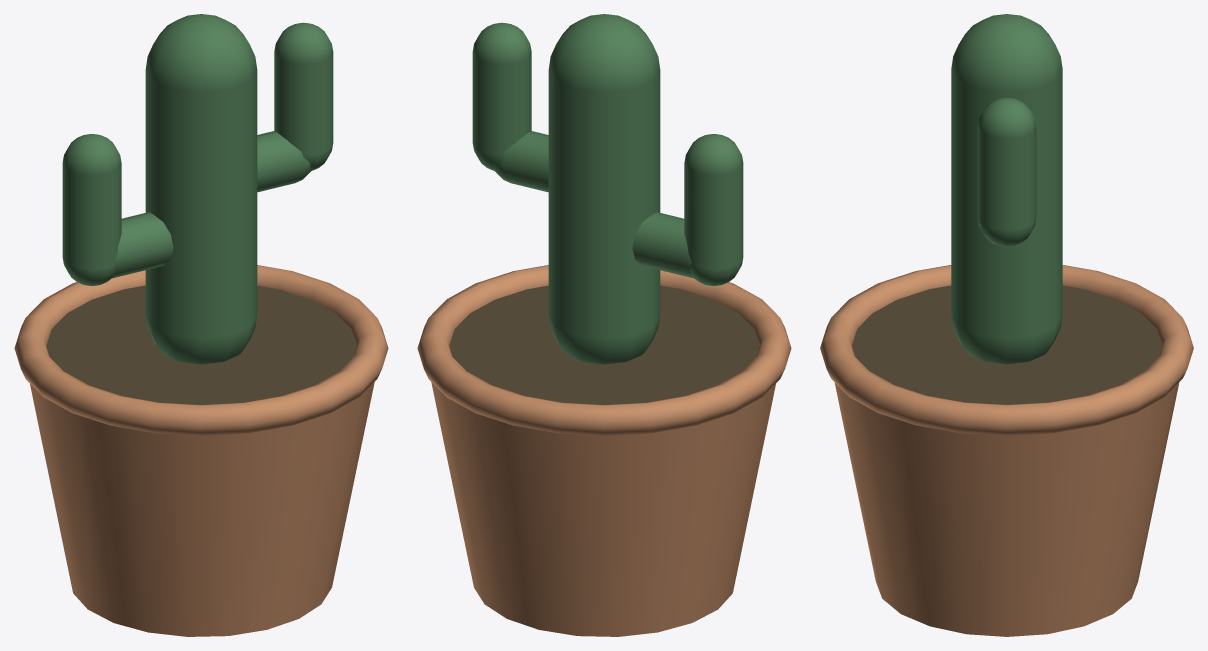
Rendered from potted-cactus.glb.
The picture shows the model from 3 angles, left to right: view 1: azimuth 30°, elevation 25°; view 2: azimuth 150°, elevation 25°; view 3: azimuth 270°, elevation 25°; orthographic projection.
Visible parts, largest first — view 1: cactus; view 2: cactus; view 3: cactus.
Part boxes in pixels (left/top/right/bottom): cactus: left=14, top=14, right=388, bottom=636; cactus: left=417, top=14, right=791, bottom=636; cactus: left=820, top=14, right=1193, bottom=636.
Size of the model in its own units: 2.28 by 3.78 by 2.28.
